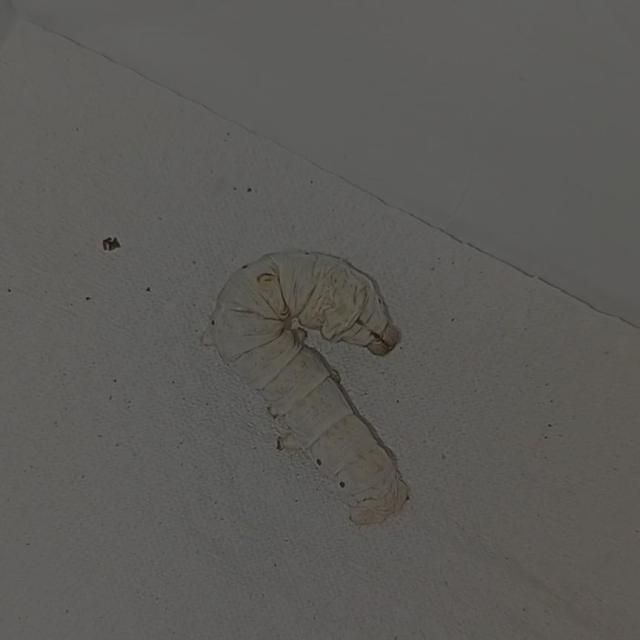Healthy: (199, 238, 442, 527)
